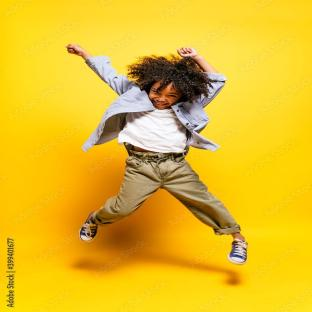Human: (67, 44, 247, 264)
